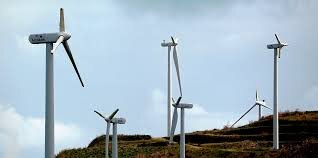faulty: (266, 33, 289, 70)
